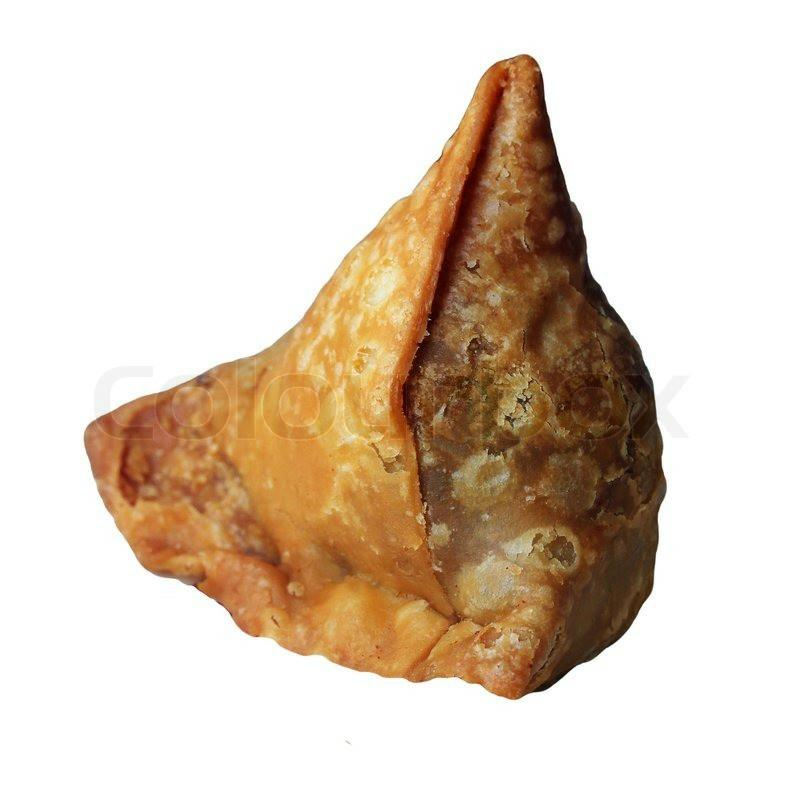Samosa: (81, 51, 667, 703)
